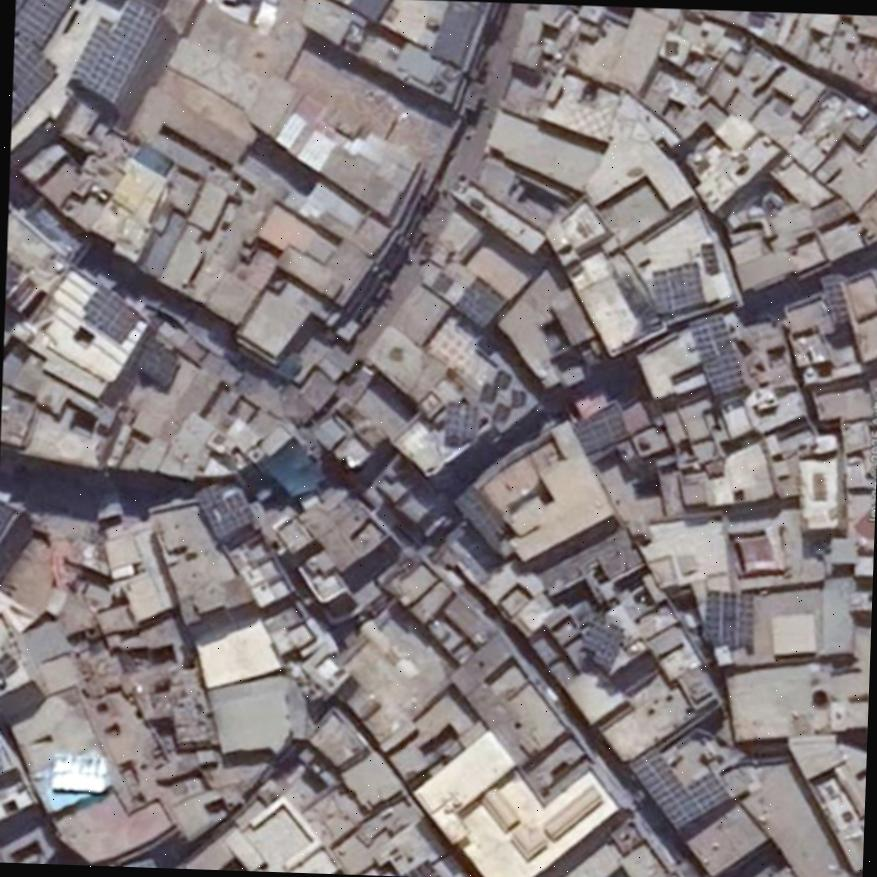Solarpanel: (629, 729, 727, 828), (69, 0, 159, 101), (687, 312, 742, 394), (11, 31, 55, 124), (196, 476, 253, 539), (82, 283, 138, 341), (14, 0, 75, 50), (572, 402, 630, 452), (650, 260, 702, 312), (707, 590, 754, 640), (454, 288, 504, 326), (581, 616, 622, 662), (819, 274, 849, 321), (447, 402, 476, 437)
